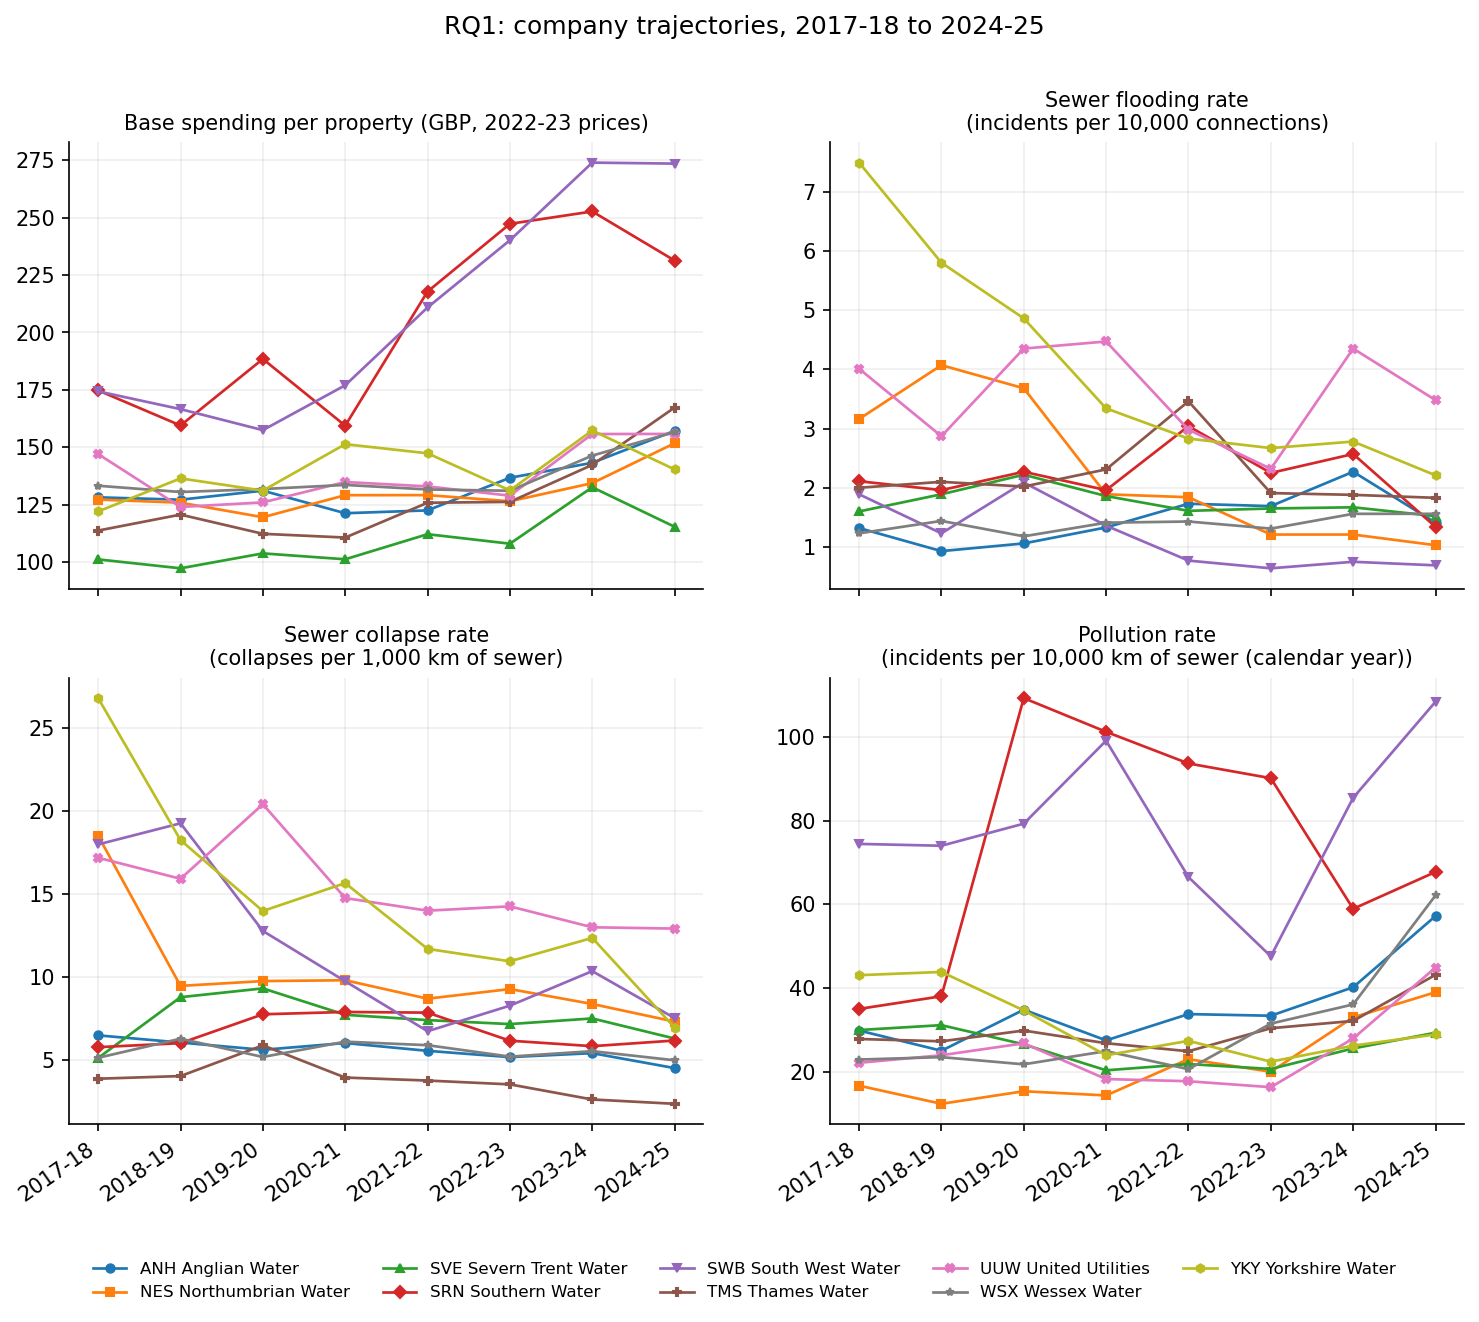

The page's visual inventory and layout, read from the dashboard file:
{"tool":"powerbi","page":{"name":"1 Trends","canvas":[1280,720],"ordinal":0},"visuals":[{"type":"lineChart","title":"Pollution incidents | per 10,000 km of sewer | calendar year | lower is better","fields":{"Category":["pbi_panel.reporting_year"],"Series":["pbi_panel.company_code"],"Y":["pbi_panel.Pollution rate"]},"box":[740,412,520,290],"z":0},{"type":"lineChart","title":"Sewer collapses | per 1,000 km of sewer | lower is better","fields":{"Category":["pbi_panel.reporting_year"],"Series":["pbi_panel.company_code"],"Y":["pbi_panel.Collapse rate"]},"box":[205,412,525,290],"z":1},{"type":"lineChart","title":"Internal sewer flooding | per 10,000 connections | lower is better","fields":{"Category":["pbi_panel.reporting_year"],"Series":["pbi_panel.company_code"],"Y":["pbi_panel.Flooding rate"]},"box":[740,112,520,290],"z":2},{"type":"lineChart","title":"Base spending per property | GBP, 2022-23 prices","fields":{"Category":["pbi_panel.reporting_year"],"Series":["pbi_panel.company_code"],"Y":["pbi_panel.Base spending per property"]},"box":[205,112,525,290],"z":3},{"type":"slicer","fields":{"Values":["pbi_panel.reporting_year"]},"box":[20,412,170,290],"z":4},{"type":"slicer","fields":{"Values":["pbi_panel.company_name"]},"box":[20,112,170,290],"z":5},{"type":"textbox","box":[20,10,1240,92],"z":6}]}

Visuals, with their boxes on the page's 1280x720 design canvas (x1, y1, x2, y2). These are canvas units, not pixel positions in the 1479x1322 screenshot, which may show the page scaled, cropped or inside an application window:
"Pollution incidents | per 10,000 km of sewer | calendar year | lower is better" lineChart: pyautogui.locateOnScreen(740, 412, 1260, 702)
"Sewer collapses | per 1,000 km of sewer | lower is better" lineChart: pyautogui.locateOnScreen(205, 412, 730, 702)
"Internal sewer flooding | per 10,000 connections | lower is better" lineChart: pyautogui.locateOnScreen(740, 112, 1260, 402)
"Base spending per property | GBP, 2022-23 prices" lineChart: pyautogui.locateOnScreen(205, 112, 730, 402)
slicer - pbi_panel.reporting_year: pyautogui.locateOnScreen(20, 412, 190, 702)
slicer - pbi_panel.company_name: pyautogui.locateOnScreen(20, 112, 190, 402)
textbox: pyautogui.locateOnScreen(20, 10, 1260, 102)
